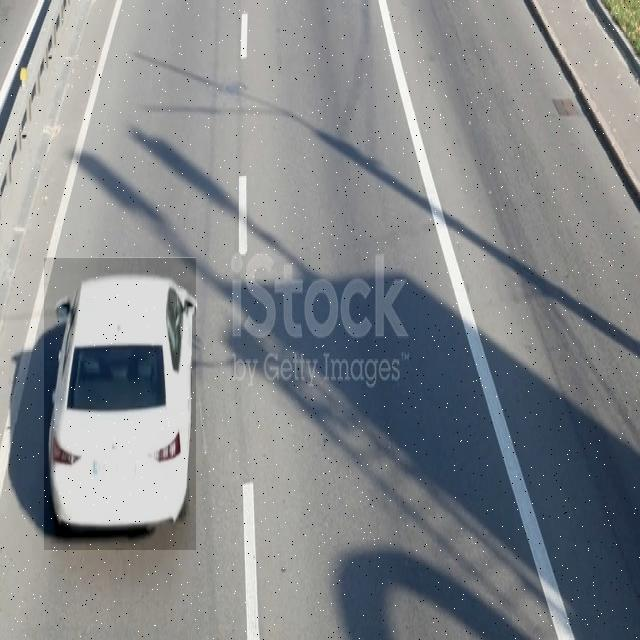Car: (44, 257, 196, 550)
